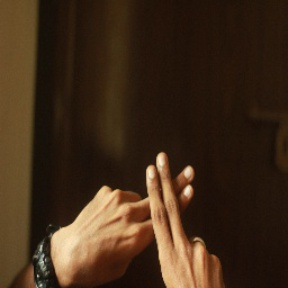F: (85, 125, 235, 271)
